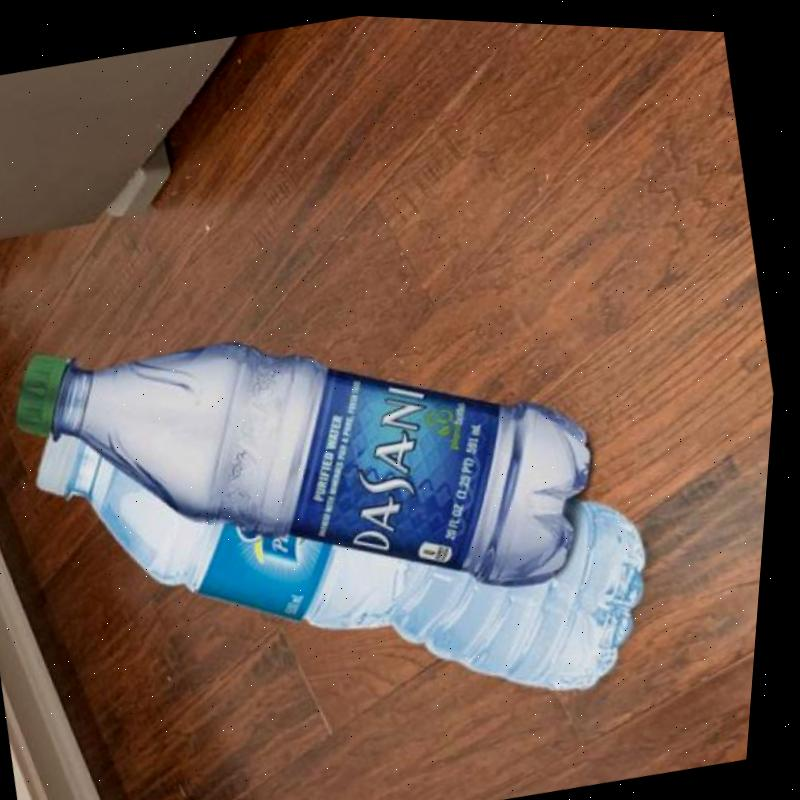botella: (15, 315, 689, 797), (0, 239, 634, 682)
